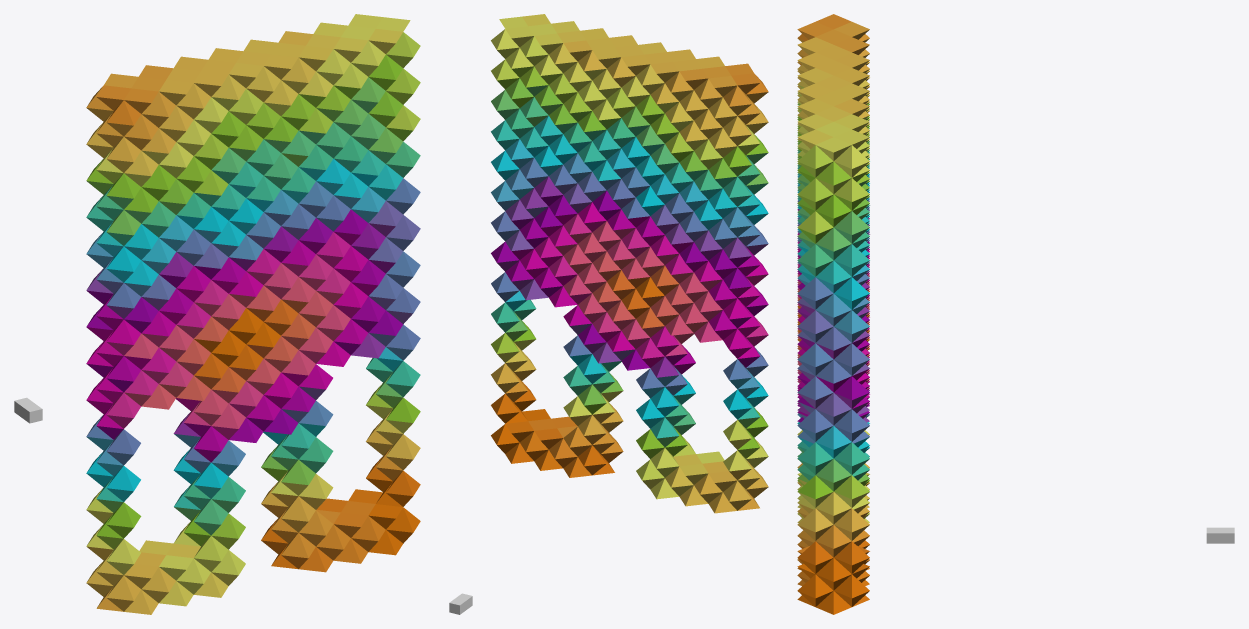
The model's file is asset.gltf.
The picture shows the model from 3 angles, left to right: view 1: azimuth 30°, elevation 25°; view 2: azimuth 150°, elevation 25°; view 3: azimuth 270°, elevation 25°; orthographic projection. The views are drawn at different scales.
Bounding box in the file's own units: 5.09 × 7.92 × 6.79.
